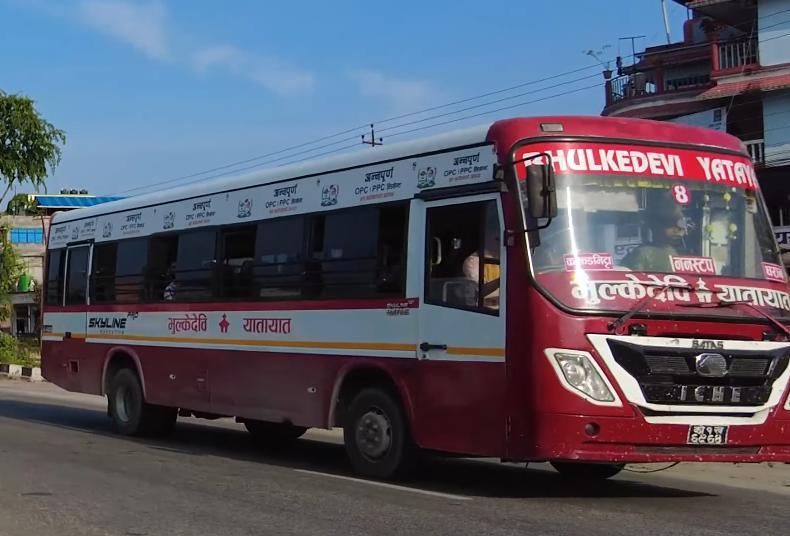bus: (34, 104, 790, 483)
